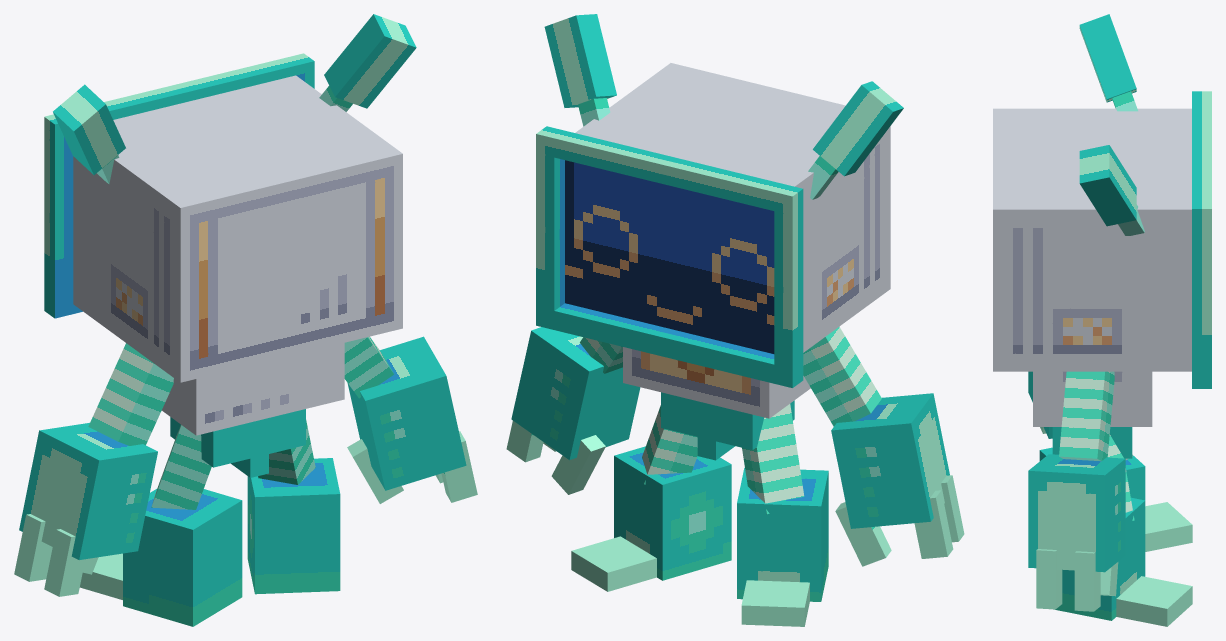
Rendered from Robot.gltf.
3 renders of one model, left to right at view 1: azimuth 30°, elevation 25°; view 2: azimuth 150°, elevation 25°; view 3: azimuth 270°, elevation 25°, orthographic. The views are drawn at different scales.
Parts seen in each view (by area): view 1: cube (×21); view 2: cube (×25); view 3: cube (×20).
Part boxes in pixels (x1=…): cube (×21): x1=14, y1=14, x2=477, y2=626; cube (×25): x1=506, y1=14, x2=964, y2=626; cube (×20): x1=993, y1=14, x2=1211, y2=626.
Size of the model in its own units: 1.51 by 1.71 by 0.6875.
Materials: 2 (2 with a texture image).
